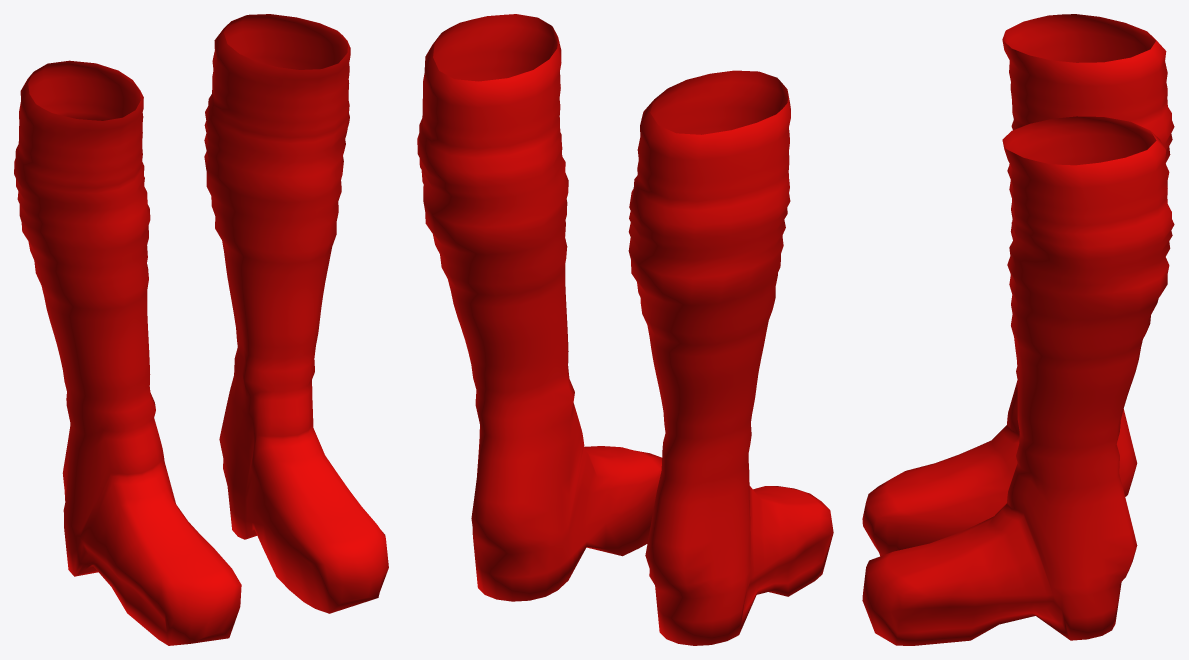
File: Supergirl_Shoes.fbx
The picture shows the model from 3 angles, left to right: view 1: azimuth 30°, elevation 25°; view 2: azimuth 150°, elevation 25°; view 3: azimuth 270°, elevation 25°; orthographic projection. The views are drawn at different scales.
Parts seen in each view (by area): view 1: Supergirl_boot; view 2: Supergirl_boot; view 3: Supergirl_boot.
Boxes of the visible parts, x1=… form: Supergirl_boot: x1=14, y1=14, x2=388, y2=645; Supergirl_boot: x1=417, y1=14, x2=833, y2=645; Supergirl_boot: x1=862, y1=14, x2=1174, y2=645.
Size of the model in its own units: 25.3 by 37.03 by 20.74.
